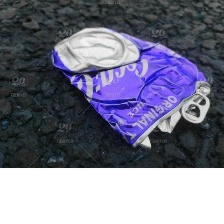can: (48, 23, 214, 154)
